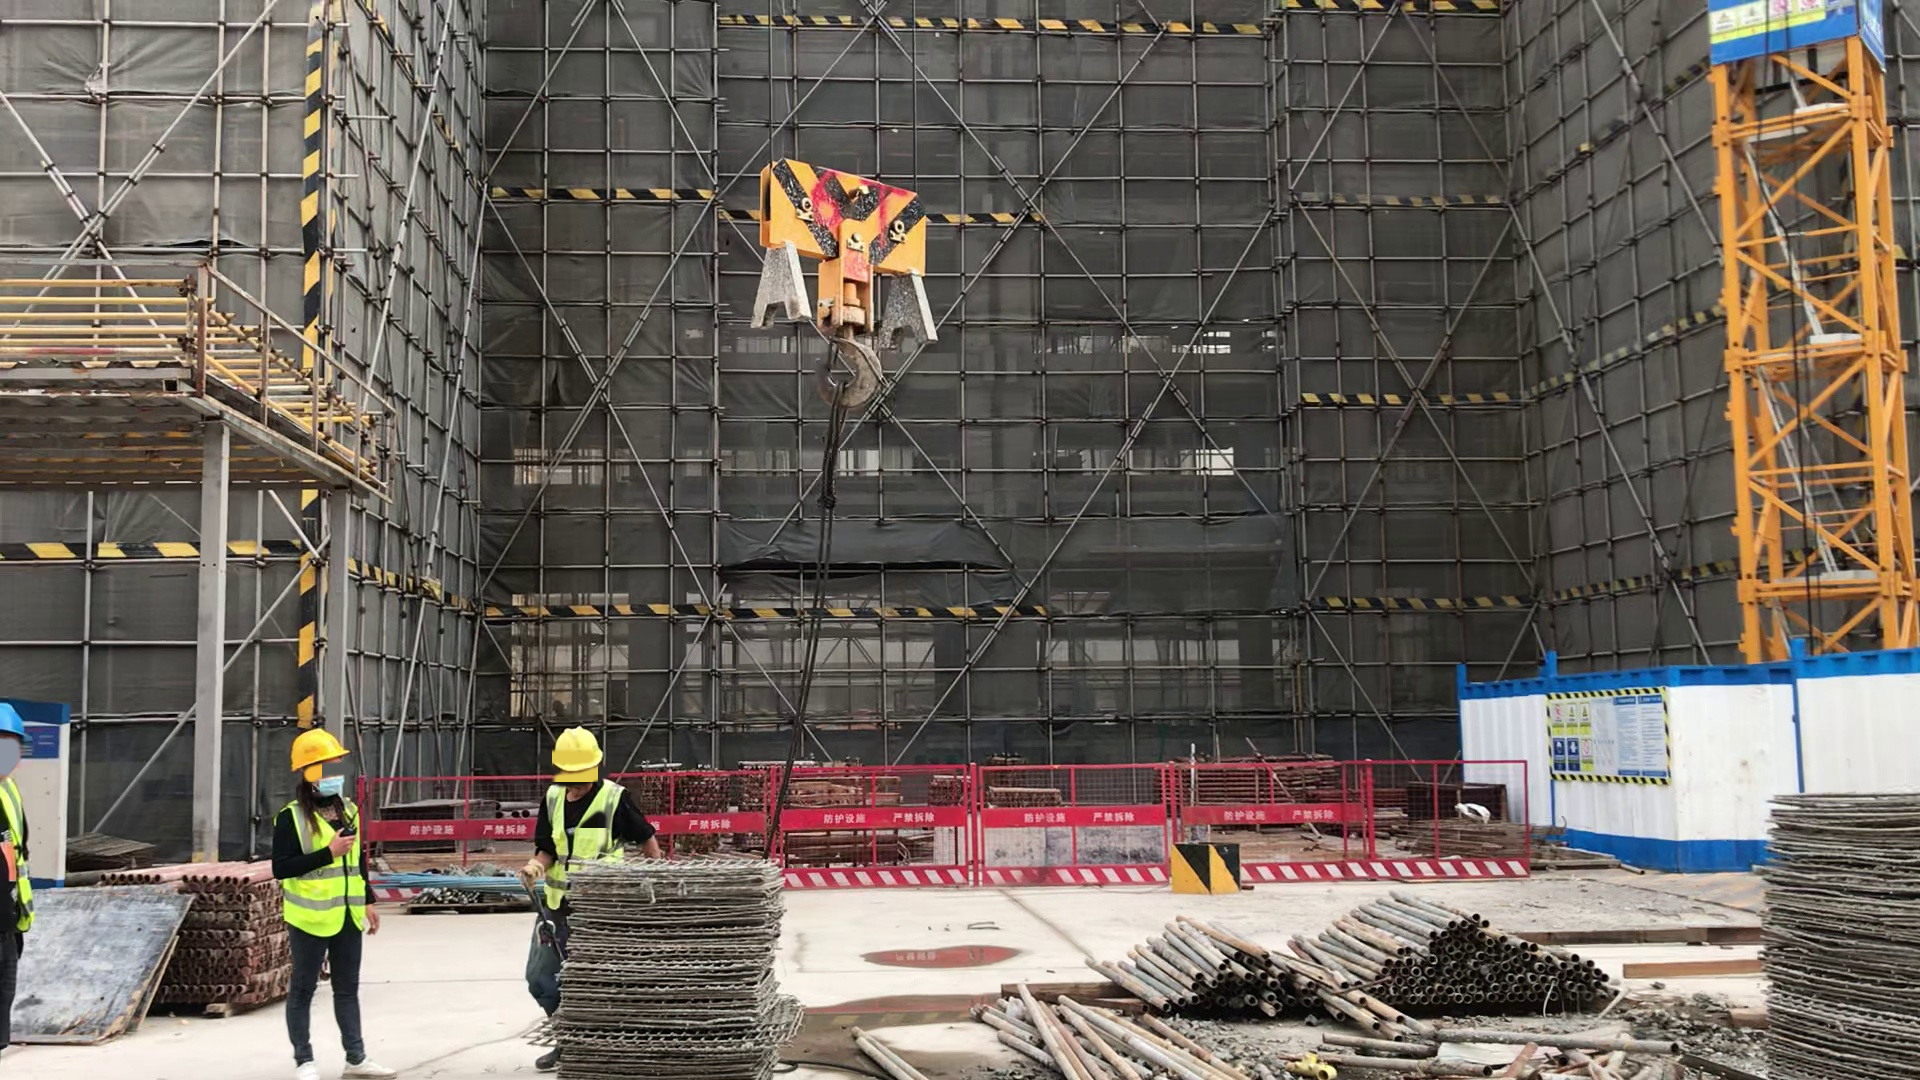fence: (364, 759, 1554, 885)
helmet: (538, 725, 616, 775), (289, 726, 346, 770), (1, 694, 26, 738)
hook: (742, 139, 947, 355)
person: (270, 729, 398, 1071), (528, 724, 616, 1080), (3, 706, 38, 1072)
scaffold: (1121, 904, 1620, 1014), (94, 858, 273, 1015)
vest: (286, 807, 372, 935), (538, 788, 621, 881), (1, 775, 37, 934)
